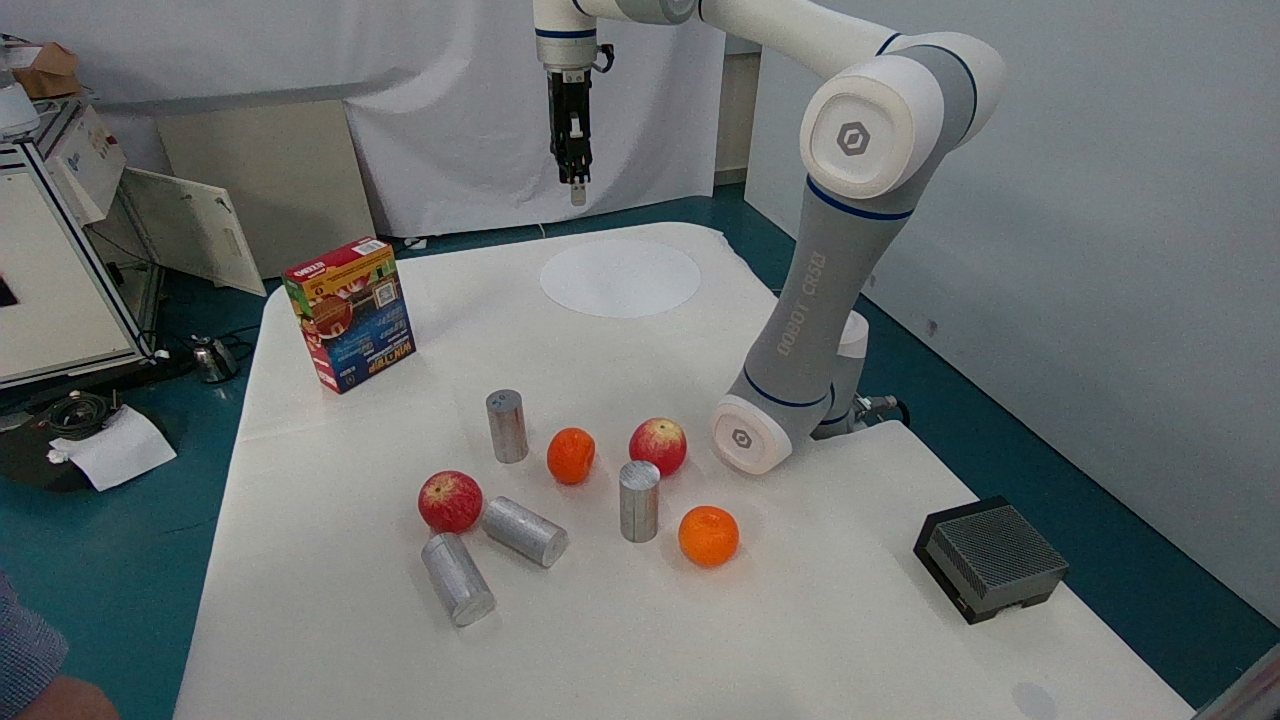apple: (404, 455, 486, 543), (611, 412, 709, 480)
metal rod: (404, 524, 509, 637), (477, 495, 583, 578), (604, 450, 670, 556), (472, 374, 538, 472)
orange: (666, 492, 751, 581), (537, 411, 610, 496)
